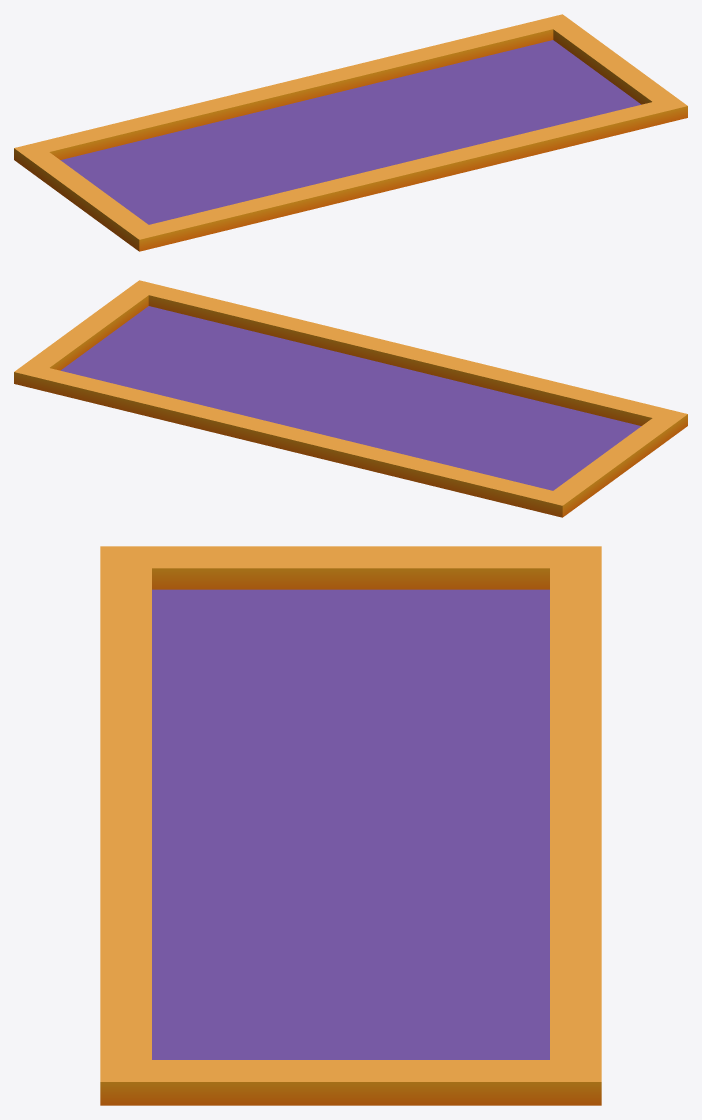
File: Spike_Pole_Socket_01.fbx
3 renders of one model, top to bottom at view 1: azimuth 30°, elevation 25°; view 2: azimuth 150°, elevation 25°; view 3: azimuth 270°, elevation 25°, orthographic. The views are drawn at different scales.
Parts seen in each view (by area): view 1: Obstacle_Spike_Pole_Socket_01; view 2: Obstacle_Spike_Pole_Socket_01; view 3: Obstacle_Spike_Pole_Socket_01.
Part boxes in pixels (bbox=[...]): Obstacle_Spike_Pole_Socket_01: bbox=[14, 14, 687, 251]; Obstacle_Spike_Pole_Socket_01: bbox=[14, 280, 687, 517]; Obstacle_Spike_Pole_Socket_01: bbox=[100, 546, 601, 1105].
Size of the model in its own units: 245 by 5.08 by 96.96.
Materials: 1 (1 with a texture image).
